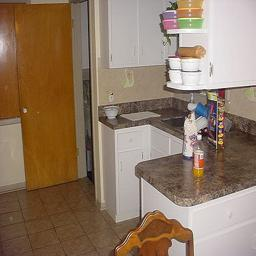bottle: (244, 197, 256, 256)
chair: (176, 222, 256, 256)
